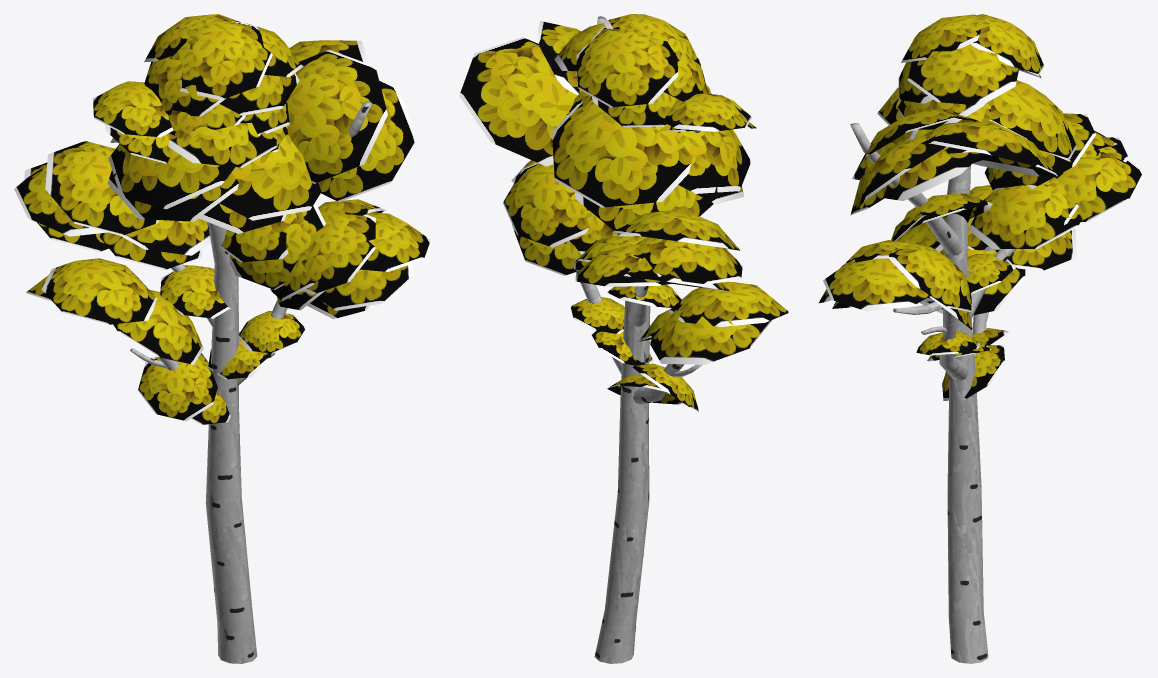
File: Birch_1.glb
The picture shows the model from 3 angles, left to right: view 1: azimuth 30°, elevation 25°; view 2: azimuth 150°, elevation 25°; view 3: azimuth 270°, elevation 25°; orthographic projection. The views are drawn at different scales.
Parts seen in each view (by area): view 1: Birch_1; view 2: Birch_1; view 3: Birch_1.
Part boxes in pixels (x1=…): Birch_1: x1=14, y1=14, x2=430, y2=663; Birch_1: x1=459, y1=14, x2=789, y2=663; Birch_1: x1=818, y1=14, x2=1143, y2=663.
Size of the model in its own units: 4.89 by 9.48 by 4.46.
Materials: 2 (2 with a texture image).
